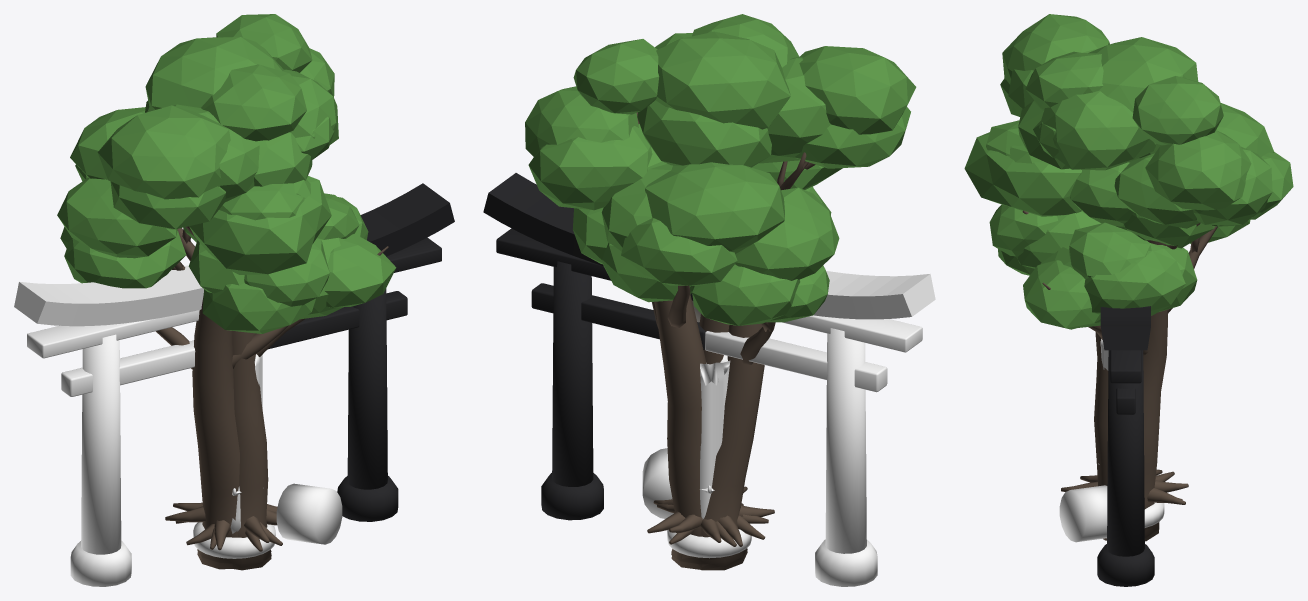
The model's file is Forest.glb.
3 views of the same model, side by side, from view 1: azimuth 30°, elevation 25°; view 2: azimuth 150°, elevation 25°; view 3: azimuth 270°, elevation 25° (orthographic). The views are drawn at different scales.
Parts seen in each view (by area): view 1: ForestTree1__Leaf_1, ForestTree2__Leaf_1, ForestGate__White_1, ForestTree1__Bark_1, ForestGate__White_S1, ForestGate__Black_S1, ForestGate__Black_1, ForestTree3__Bark_1, ForestPillar__White_1, ForestPillar__White_S1, ForestTree2__Bark_1; view 2: ForestTree2__Leaf_1, ForestTree1__Leaf_1, ForestGate__White_1, ForestGate__Black_S1, ForestGate__White_S1, ForestTree2__Bark_1, ForestGate__Black_1, ForestTree1__Bark_1, ForestPillar__White_S1, ForestTree3__Bark_1, ForestPillar__White_1; view 3: ForestTree2__Leaf_1, ForestTree1__Leaf_1, ForestGate__Black_S1, ForestTree2__Bark_1, ForestGate__Black_1, ForestPillar__White_1, ForestTree3__Bark_1, ForestPillar__White_S1, ForestTree1__Bark_1.
Boxes of the visible parts, bbox=[...] form: ForestTree1__Leaf_1: bbox=[57, 64, 396, 333]; ForestTree2__Leaf_1: bbox=[70, 14, 368, 274]; ForestGate__White_1: bbox=[14, 265, 203, 396]; ForestTree1__Bark_1: bbox=[156, 296, 288, 569]; ForestGate__White_S1: bbox=[70, 334, 131, 586]; ForestGate__Black_S1: bbox=[337, 288, 398, 521]; ForestGate__Black_1: bbox=[268, 183, 454, 349]; ForestTree3__Bark_1: bbox=[172, 226, 388, 570]; ForestPillar__White_1: bbox=[276, 483, 342, 544]; ForestPillar__White_S1: bbox=[193, 354, 275, 558]; ForestTree2__Bark_1: bbox=[173, 228, 277, 564]; ForestTree2__Leaf_1: bbox=[525, 31, 842, 302]; ForestTree1__Leaf_1: bbox=[655, 14, 916, 325]; ForestGate__White_1: bbox=[705, 271, 935, 392]; ForestGate__Black_S1: bbox=[541, 261, 603, 520]; ForestGate__White_S1: bbox=[815, 328, 877, 586]; ForestTree2__Bark_1: bbox=[636, 112, 768, 569]; ForestGate__Black_1: bbox=[483, 173, 705, 349]; ForestTree1__Bark_1: bbox=[657, 161, 815, 570]; ForestPillar__White_S1: bbox=[667, 355, 751, 558]; ForestTree3__Bark_1: bbox=[669, 152, 808, 564]; ForestPillar__White_1: bbox=[642, 448, 673, 518]; ForestTree2__Leaf_1: bbox=[964, 37, 1293, 315]; ForestTree1__Leaf_1: bbox=[989, 14, 1250, 329]; ForestGate__Black_S1: bbox=[1097, 350, 1154, 586]; ForestTree2__Bark_1: bbox=[1143, 223, 1217, 541]; ForestGate__Black_1: bbox=[1100, 306, 1150, 414]; ForestPillar__White_1: bbox=[1059, 485, 1107, 542]; ForestTree3__Bark_1: bbox=[1022, 210, 1182, 540]; ForestPillar__White_S1: bbox=[1100, 339, 1164, 527]; ForestTree1__Bark_1: bbox=[1080, 332, 1188, 535].
Size of the model in its own units: 37.62 by 44.05 by 27.47.
